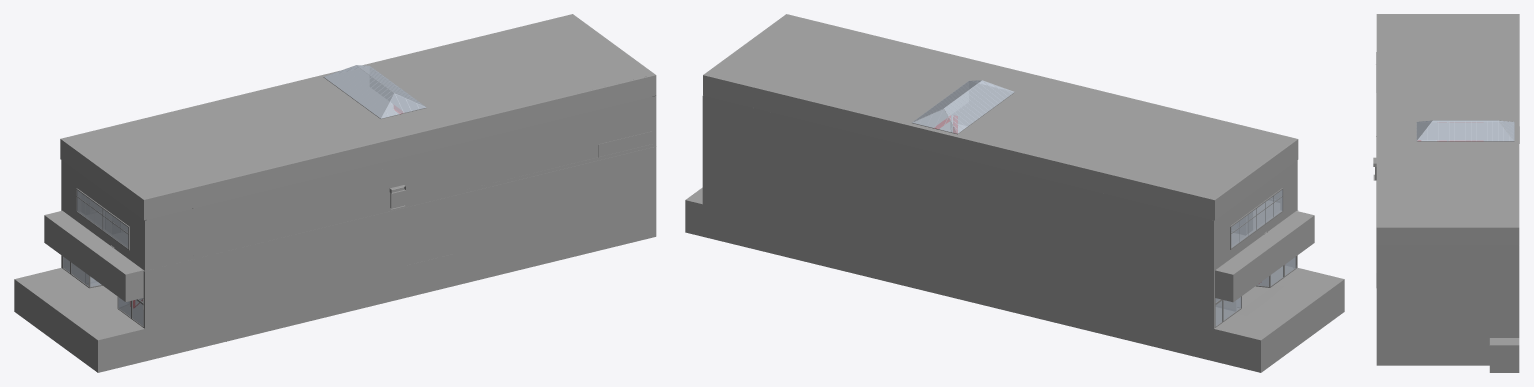
File: whole_1.fbx
3 views of the same model, side by side, from view 1: azimuth 30°, elevation 25°; view 2: azimuth 150°, elevation 25°; view 3: azimuth 270°, elevation 25° (orthographic). The views are drawn at different scales.
Parts seen in each view (by area): view 1: polySurface1104, pPlane1, polySurface725, polySurface139, polySurface1105, polySurface583, polySurface582, polySurface728, polySurface620, polySurface516, polySurface1115, polySurface588; view 2: polySurface1104, pPlane1, polySurface725, polySurface139, polySurface1105, polySurface583, polySurface582, polySurface728, polySurface516, polySurface588, polySurface1116; view 3: pPlane1, polySurface1104, polySurface725, polySurface583, polySurface582, polySurface588, polySurface1094.
Boxes of the visible parts, <box> form: polySurface1104: <box>14,95,656,372</box>; pPlane1: <box>63,15,653,198</box>; polySurface725: <box>60,14,656,220</box>; polySurface139: <box>44,210,143,301</box>; polySurface1105: <box>15,267,144,340</box>; polySurface583: <box>324,65,426,118</box>; polySurface582: <box>325,66,424,112</box>; polySurface728: <box>77,190,128,248</box>; polySurface620: <box>80,91,505,255</box>; polySurface516: <box>63,257,143,325</box>; polySurface1115: <box>193,96,651,208</box>; polySurface588: <box>323,65,426,119</box>; polySurface1104: <box>685,95,1344,372</box>; pPlane1: <box>705,15,1295,198</box>; polySurface725: <box>703,14,1298,220</box>; polySurface139: <box>1215,211,1314,302</box>; polySurface1105: <box>1214,268,1344,340</box>; polySurface583: <box>912,80,1014,133</box>; polySurface582: <box>914,82,1013,127</box>; polySurface728: <box>1231,190,1282,247</box>; polySurface516: <box>1215,257,1296,325</box>; polySurface588: <box>912,80,1014,134</box>; polySurface1116: <box>939,122,1279,245</box>; pPlane1: <box>1378,14,1517,226</box>; polySurface1104: <box>1376,245,1519,372</box>; polySurface725: <box>1376,14,1519,244</box>; polySurface583: <box>1416,120,1514,141</box>; polySurface582: <box>1417,123,1513,139</box>; polySurface588: <box>1417,120,1514,141</box>; polySurface1094: <box>1377,245,1517,245</box>.
Size of the model in its own units: 5672 by 1653 by 1462.
